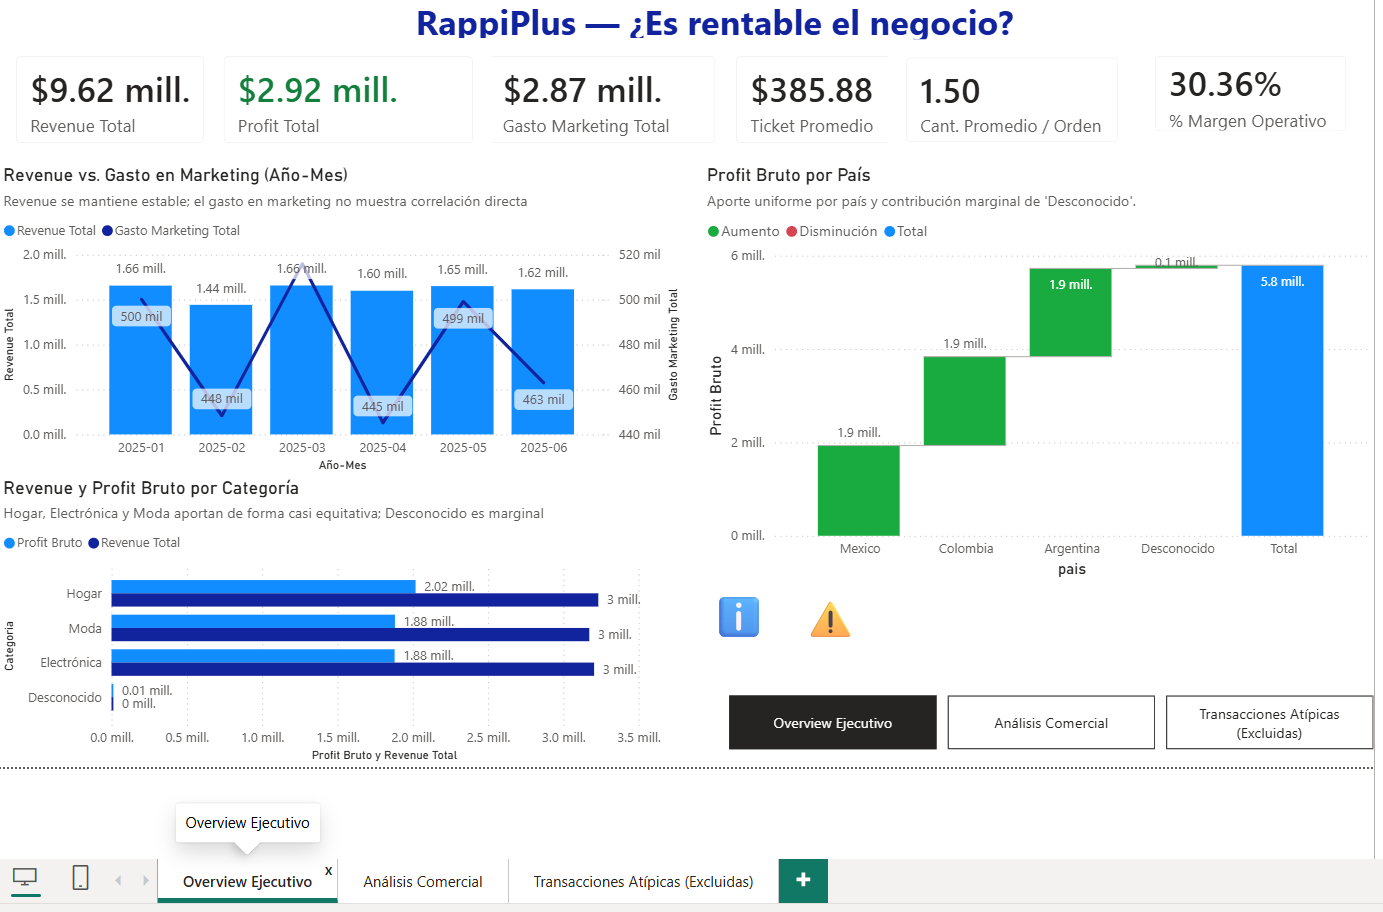

The dashboard page shown, as its layout file describes it:
{"tool":"powerbi","page":{"name":"Overview Ejecutivo","canvas":[1280,720],"ordinal":0},"visuals":[{"type":"textbox","box":[383.7,0,570.9,60.5],"z":0},{"type":"cardVisual","fields":{"Data":["orders_clean.Ticket Promedio"]},"box":[669.8,41.9,181.4,115.1],"z":1000},{"type":"cardVisual","fields":{"Data":["orders_clean.Gasto Marketing Total"]},"box":[439.5,41.9,245.3,115.1],"z":2000},{"type":"cardVisual","fields":{"Data":["orders_clean.Profit Total"]},"box":[193,41.9,266.3,115.1],"z":3000},{"type":"cardVisual","fields":{"Data":["orders_clean.Revenue Total"]},"box":[0,41.9,209.3,115.1],"z":4000},{"type":"cardVisual","fields":{"Data":["orders_clean.Cantidad Promedio por Orden"]},"box":[827.9,43,231.4,114],"z":5000},{"type":"lineStackedColumnComboChart","title":"Revenue vs. Gasto en Marketing (Año-Mes)","fields":{"Y":["orders_clean.Revenue Total"],"Category":["Dim_Fecha.Año-Mes"],"Y2":["orders_clean.Gasto Marketing Total"]},"box":[0,159.3,639.5,290.7],"z":6000},{"type":"clusteredBarChart","title":"Revenue y Profit Bruto por Categoría","fields":{"Y":["orders_clean.Profit Bruto","orders_clean.Revenue Total"],"Category":["orders_clean.categoria_producto"]},"box":[0,450,639.5,269.8],"z":7000},{"type":"waterfallChart","title":"Profit Bruto por País","fields":{"Category":["orders_clean.pais"],"Y":["orders_clean.Profit Bruto"]},"box":[654.7,159.3,625.6,389.5],"z":8000},{"type":"cardVisual","fields":{"Data":["orders_clean.% Margen Operativo"]},"box":[1059.3,41.9,212.8,104.7],"z":9000},{"type":"textbox","box":[654.7,548.8,74.4,68.6],"z":10000},{"type":"textbox","box":[743,548.8,73.3,68.6],"z":11000},{"type":"pageNavigator","box":[680.2,653.5,600,50],"z":11004}]}

Visuals, with their boxes on the page's 1280x720 design canvas (x1, y1, x2, y2). These are canvas units, not pixel positions in the 1383x912 screenshot, which may show the page scaled, cropped or inside an application window:
textbox: {"left": 384, "top": 0, "right": 955, "bottom": 60}
cardVisual - orders_clean.Ticket Promedio: {"left": 670, "top": 42, "right": 851, "bottom": 157}
cardVisual - orders_clean.Gasto Marketing Total: {"left": 440, "top": 42, "right": 685, "bottom": 157}
cardVisual - orders_clean.Profit Total: {"left": 193, "top": 42, "right": 459, "bottom": 157}
cardVisual - orders_clean.Revenue Total: {"left": 0, "top": 42, "right": 209, "bottom": 157}
cardVisual - orders_clean.Cantidad Promedio por Orden: {"left": 828, "top": 43, "right": 1059, "bottom": 157}
"Revenue vs. Gasto en Marketing (Año-Mes)" lineStackedColumnComboChart: {"left": 0, "top": 159, "right": 640, "bottom": 450}
"Revenue y Profit Bruto por Categoría" clusteredBarChart: {"left": 0, "top": 450, "right": 640, "bottom": 720}
"Profit Bruto por País" waterfallChart: {"left": 655, "top": 159, "right": 1280, "bottom": 549}
cardVisual - orders_clean.% Margen Operativo: {"left": 1059, "top": 42, "right": 1272, "bottom": 147}
textbox: {"left": 655, "top": 549, "right": 729, "bottom": 617}
textbox: {"left": 743, "top": 549, "right": 816, "bottom": 617}
pageNavigator: {"left": 680, "top": 654, "right": 1280, "bottom": 704}
